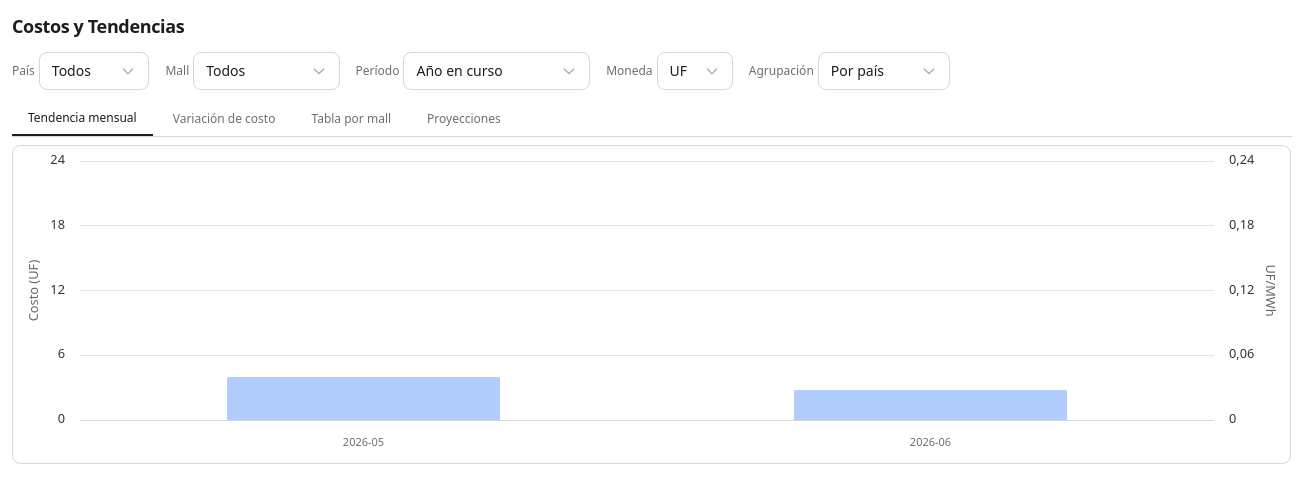
Test: CostosTendenciasPage › tabs › shows cost table on tabla tab click
The image size is (1304, 481).
Click the button "Tabla por mall": (351, 119) 296,102 -> 407,136
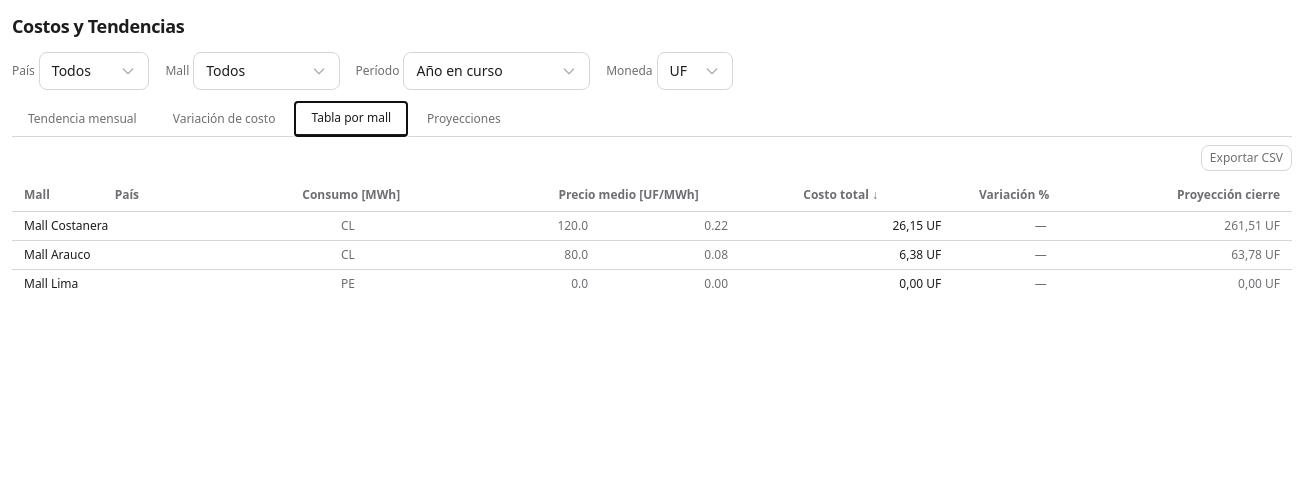
Check: the button "Exportar CSV" is shown, box 1201,145 -> 1292,171
